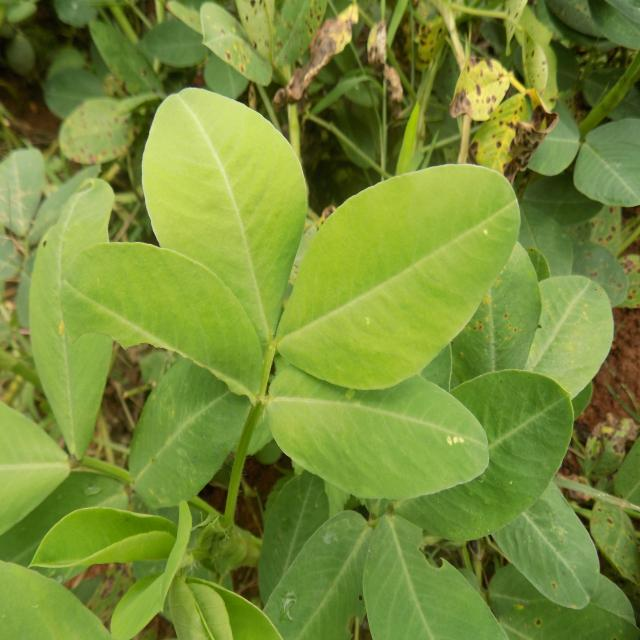Ground nut_healthy: (256, 164, 528, 391), (146, 74, 308, 354), (60, 234, 266, 406), (267, 351, 496, 497), (120, 351, 260, 498), (256, 508, 372, 632), (36, 506, 175, 578), (584, 125, 640, 222)
Ground nut_tikka leaf spot: (60, 90, 149, 166)
